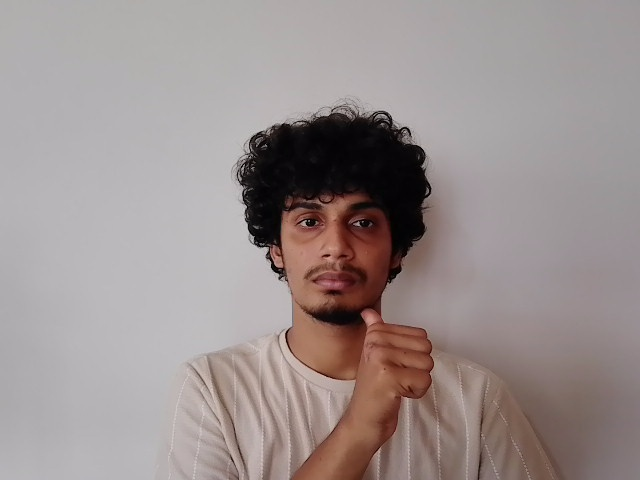not: (291, 290, 436, 419)
